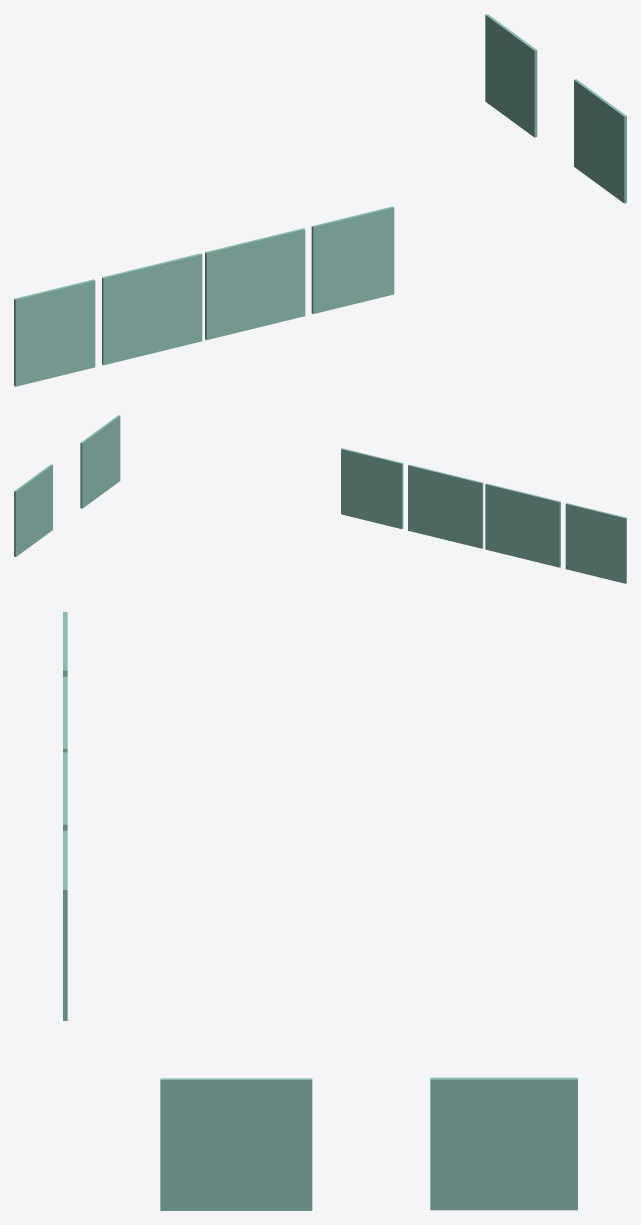
Rendered from GlassWinterSimpleHouse.fbx.
The picture shows the model from 3 angles, top to bottom: view 1: azimuth 30°, elevation 25°; view 2: azimuth 150°, elevation 25°; view 3: azimuth 270°, elevation 25°; orthographic projection. The views are drawn at different scales.
Parts seen in each view (by area): view 1: Cube.005; view 2: Cube.005; view 3: Cube.005.
Part boxes in pixels (box(x1,y1,x2,y2)): Cube.005: box(14, 14, 626, 386); Cube.005: box(14, 415, 626, 583); Cube.005: box(63, 612, 577, 1210).
Size of the model in its own units: 1255 by 168 by 578.
